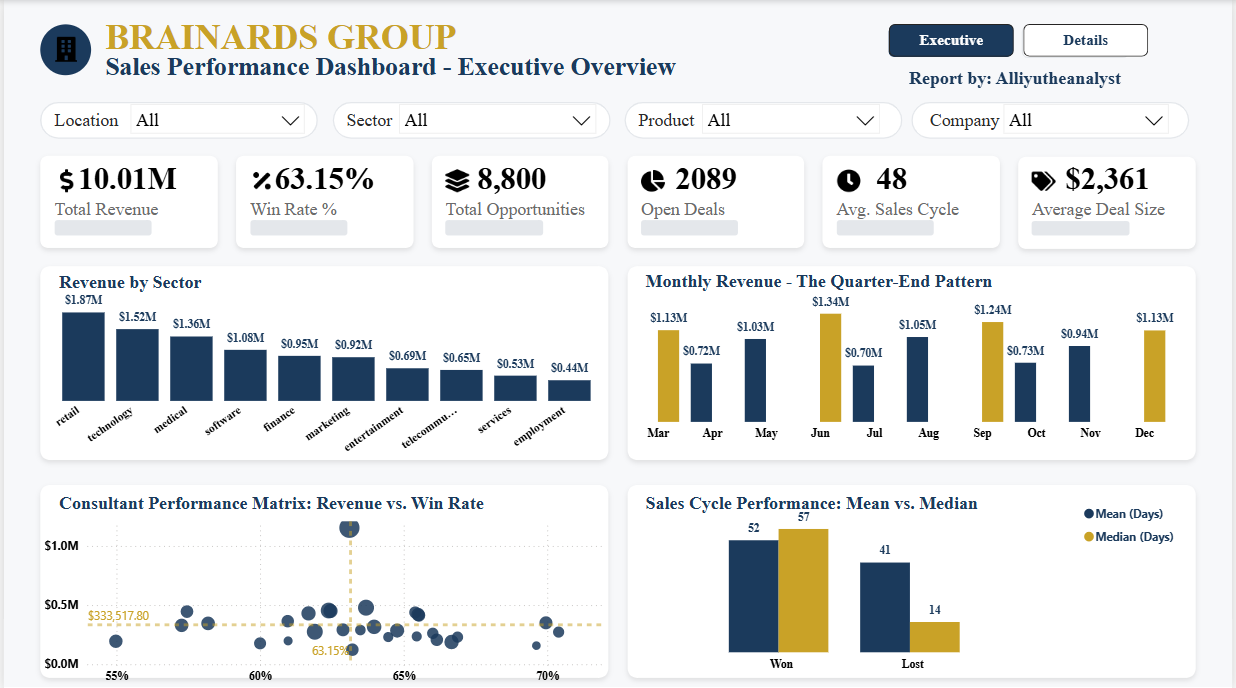

The page's visual inventory and layout, read from the dashboard file:
{"tool":"powerbi","page":{"name":"Executive","canvas":[1280,720],"ordinal":0},"visuals":[{"type":"slicer","fields":{"Values":["accounts.Account"]},"box":[1031.7,98.3,191.7,41.7],"z":0},{"type":"group","id":"g1","title":"Group 1","box":[48.5,140.7,1191,89.1],"z":0,"group":"g2"},{"type":"cardVisual","fields":{"Data":["Measure.Total Revenue"]},"box":[48.5,140.7,175.1,89.1],"z":0,"group":"g1"},{"type":"cardVisual","fields":{"Data":["Measure.Win Rate %"]},"box":[253.3,140.7,175.1,89.1],"z":1000,"group":"g1"},{"type":"clusteredColumnChart","fields":{"Category":["sales_pipeline.Deal_stage"],"Y":["Sales Measure.Average Sales Cycle (Days)","Sales Measure.Median Sales Cycle (Days)"]},"box":[626.7,516.7,606.7,190],"z":1000},{"type":"slicer","fields":{"Values":["accounts.Sector"]},"box":[401.7,98.5,225.1,42.2],"z":2000},{"type":"cardVisual","fields":{"Data":["Measure.Total Opportunities"]},"box":[464.3,140.7,175.1,89.1],"z":2000,"group":"g1"},{"type":"group","id":"g2","title":"Group 2","box":[48.5,140.7,1191,89.1],"z":3000},{"type":"cardVisual","fields":{"Data":["Measure.Average Deal Size"]},"box":[1076.9,140.7,162.6,89.1],"z":3000,"group":"g1"},{"type":"cardVisual","fields":{"Data":["Sales Measure.Average Sales Cycle (Days)"]},"box":[880,140.7,142.2,89.1],"z":4000,"group":"g1"},{"type":"clusteredColumnChart","fields":{"Category":["accounts.Sector"],"Y":["Measure.Total Revenue"]},"box":[32.8,292.3,606.4,189.1],"z":4000},{"type":"pageNavigator","box":[922.2,25,270.4,34.4],"z":5000},{"type":"cardVisual","fields":{"Data":["Measure.Open Deals"]},"box":[670.6,140.7,150,89.1],"z":5000,"group":"g1"},{"type":"slicer","fields":{"Values":["accounts.Office_location"]},"box":[121.9,98.5,201.6,42.2],"z":6000},{"type":"slicer","fields":{"Values":["products.Product"]},"box":[716.7,98.3,205,41.7],"z":7000},{"type":"clusteredColumnChart","fields":{"Category":["Date Table.Month Short"],"Y":["Measure.Total Revenue"],"Series":["Date Table.Is Quarter End"]},"box":[631.7,291.7,606.7,175],"z":8000},{"type":"scatterChart","fields":{"X":["Measure.Win Rate %"],"Y":["Measure.Total Revenue"],"Size":["Measure.Total Opportunities"],"Category":["sales_teams.Sales_agent"]},"box":[36.7,530,606.7,190],"z":9000},{"type":"textbox","box":[930,65.6,247,32.8],"z":10000}]}

Visuals, with their boxes in screenshot pixels (x1, y1, x2, y2), scaled from the page's 1280x720 canvas onto the 1236x688 screenshot:
slicer - accounts.Account: x1=996 y1=94 x2=1181 y2=134
"Group 1" group: x1=47 y1=134 x2=1197 y2=220
cardVisual - Measure.Total Revenue: x1=47 y1=134 x2=216 y2=220
cardVisual - Measure.Win Rate %: x1=245 y1=134 x2=414 y2=220
clusteredColumnChart - sales_pipeline.Deal_stage x Sales Measure.Average Sales Cycle (Days): x1=605 y1=494 x2=1191 y2=675
slicer - accounts.Sector: x1=388 y1=94 x2=605 y2=134
cardVisual - Measure.Total Opportunities: x1=448 y1=134 x2=617 y2=220
"Group 2" group: x1=47 y1=134 x2=1197 y2=220
cardVisual - Measure.Average Deal Size: x1=1040 y1=134 x2=1197 y2=220
cardVisual - Sales Measure.Average Sales Cycle (Days): x1=850 y1=134 x2=987 y2=220
clusteredColumnChart - accounts.Sector x Measure.Total Revenue: x1=32 y1=279 x2=617 y2=460
pageNavigator: x1=890 y1=24 x2=1152 y2=57
cardVisual - Measure.Open Deals: x1=648 y1=134 x2=792 y2=220
slicer - accounts.Office_location: x1=118 y1=94 x2=312 y2=134
slicer - products.Product: x1=692 y1=94 x2=890 y2=134
clusteredColumnChart - Date Table.Month Short x Measure.Total Revenue: x1=610 y1=279 x2=1196 y2=446
scatterChart - Measure.Win Rate % x Measure.Total Revenue: x1=35 y1=506 x2=621 y2=687
textbox: x1=898 y1=63 x2=1137 y2=94
